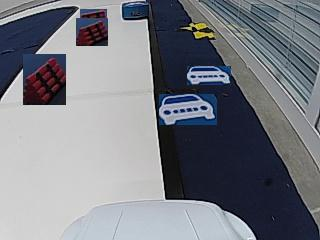prop: (122, 1, 148, 21)
